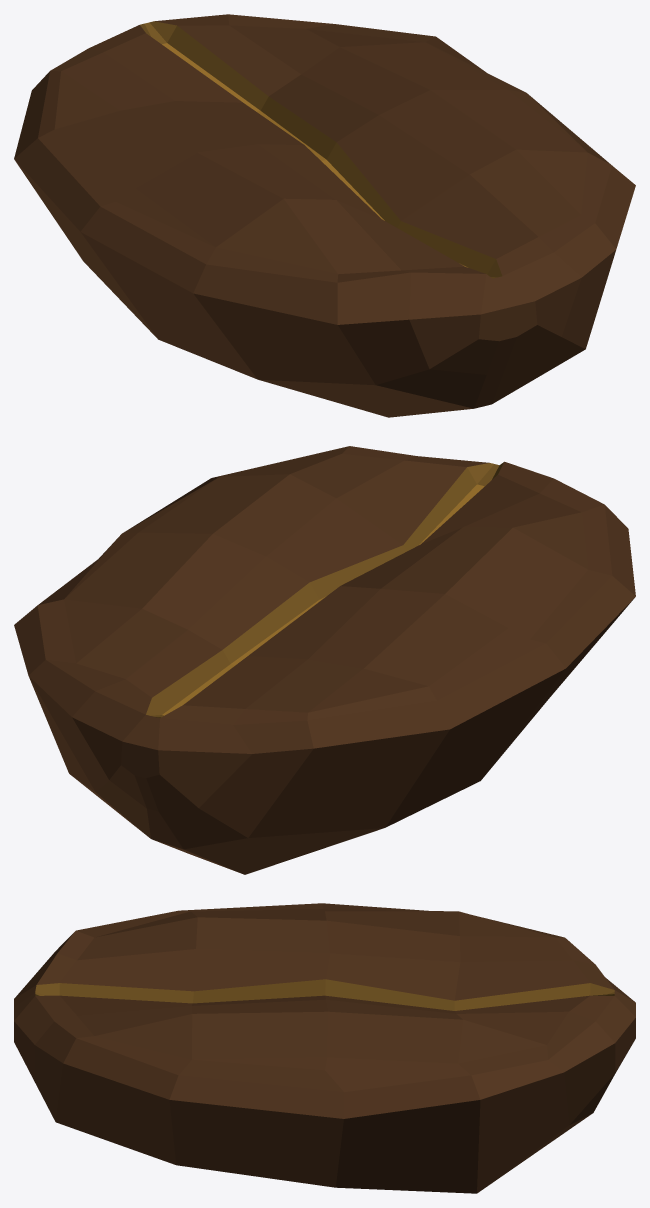
The model's file is CoffeeBean.fbx.
3 views of the same model, one above another, from view 1: azimuth 30°, elevation 25°; view 2: azimuth 150°, elevation 25°; view 3: azimuth 270°, elevation 25° (orthographic). The views are drawn at different scales.
Parts seen in each view (by area): view 1: Circle; view 2: Circle; view 3: Circle.
Part boxes in pixels (box(x1,y1,x2,y2)): Circle: box(14, 14, 635, 417); Circle: box(14, 446, 635, 874); Circle: box(14, 903, 635, 1193).
Bounding box in the file's own units: 229 × 114 × 312.
